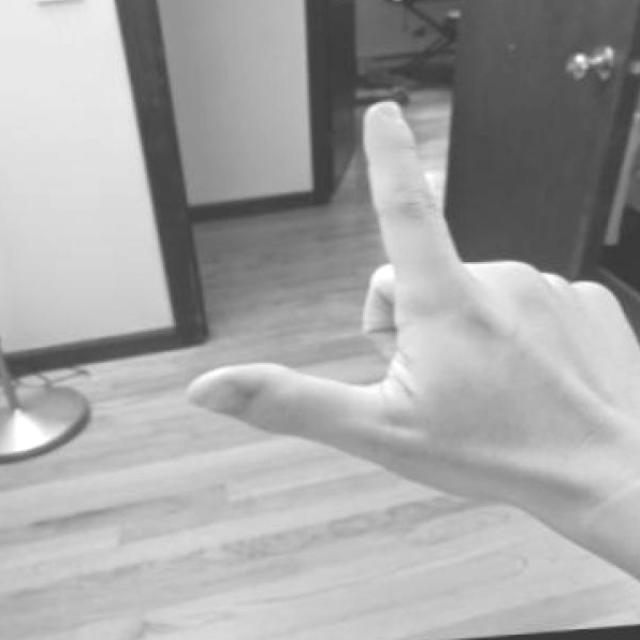L: (173, 82, 640, 553)
